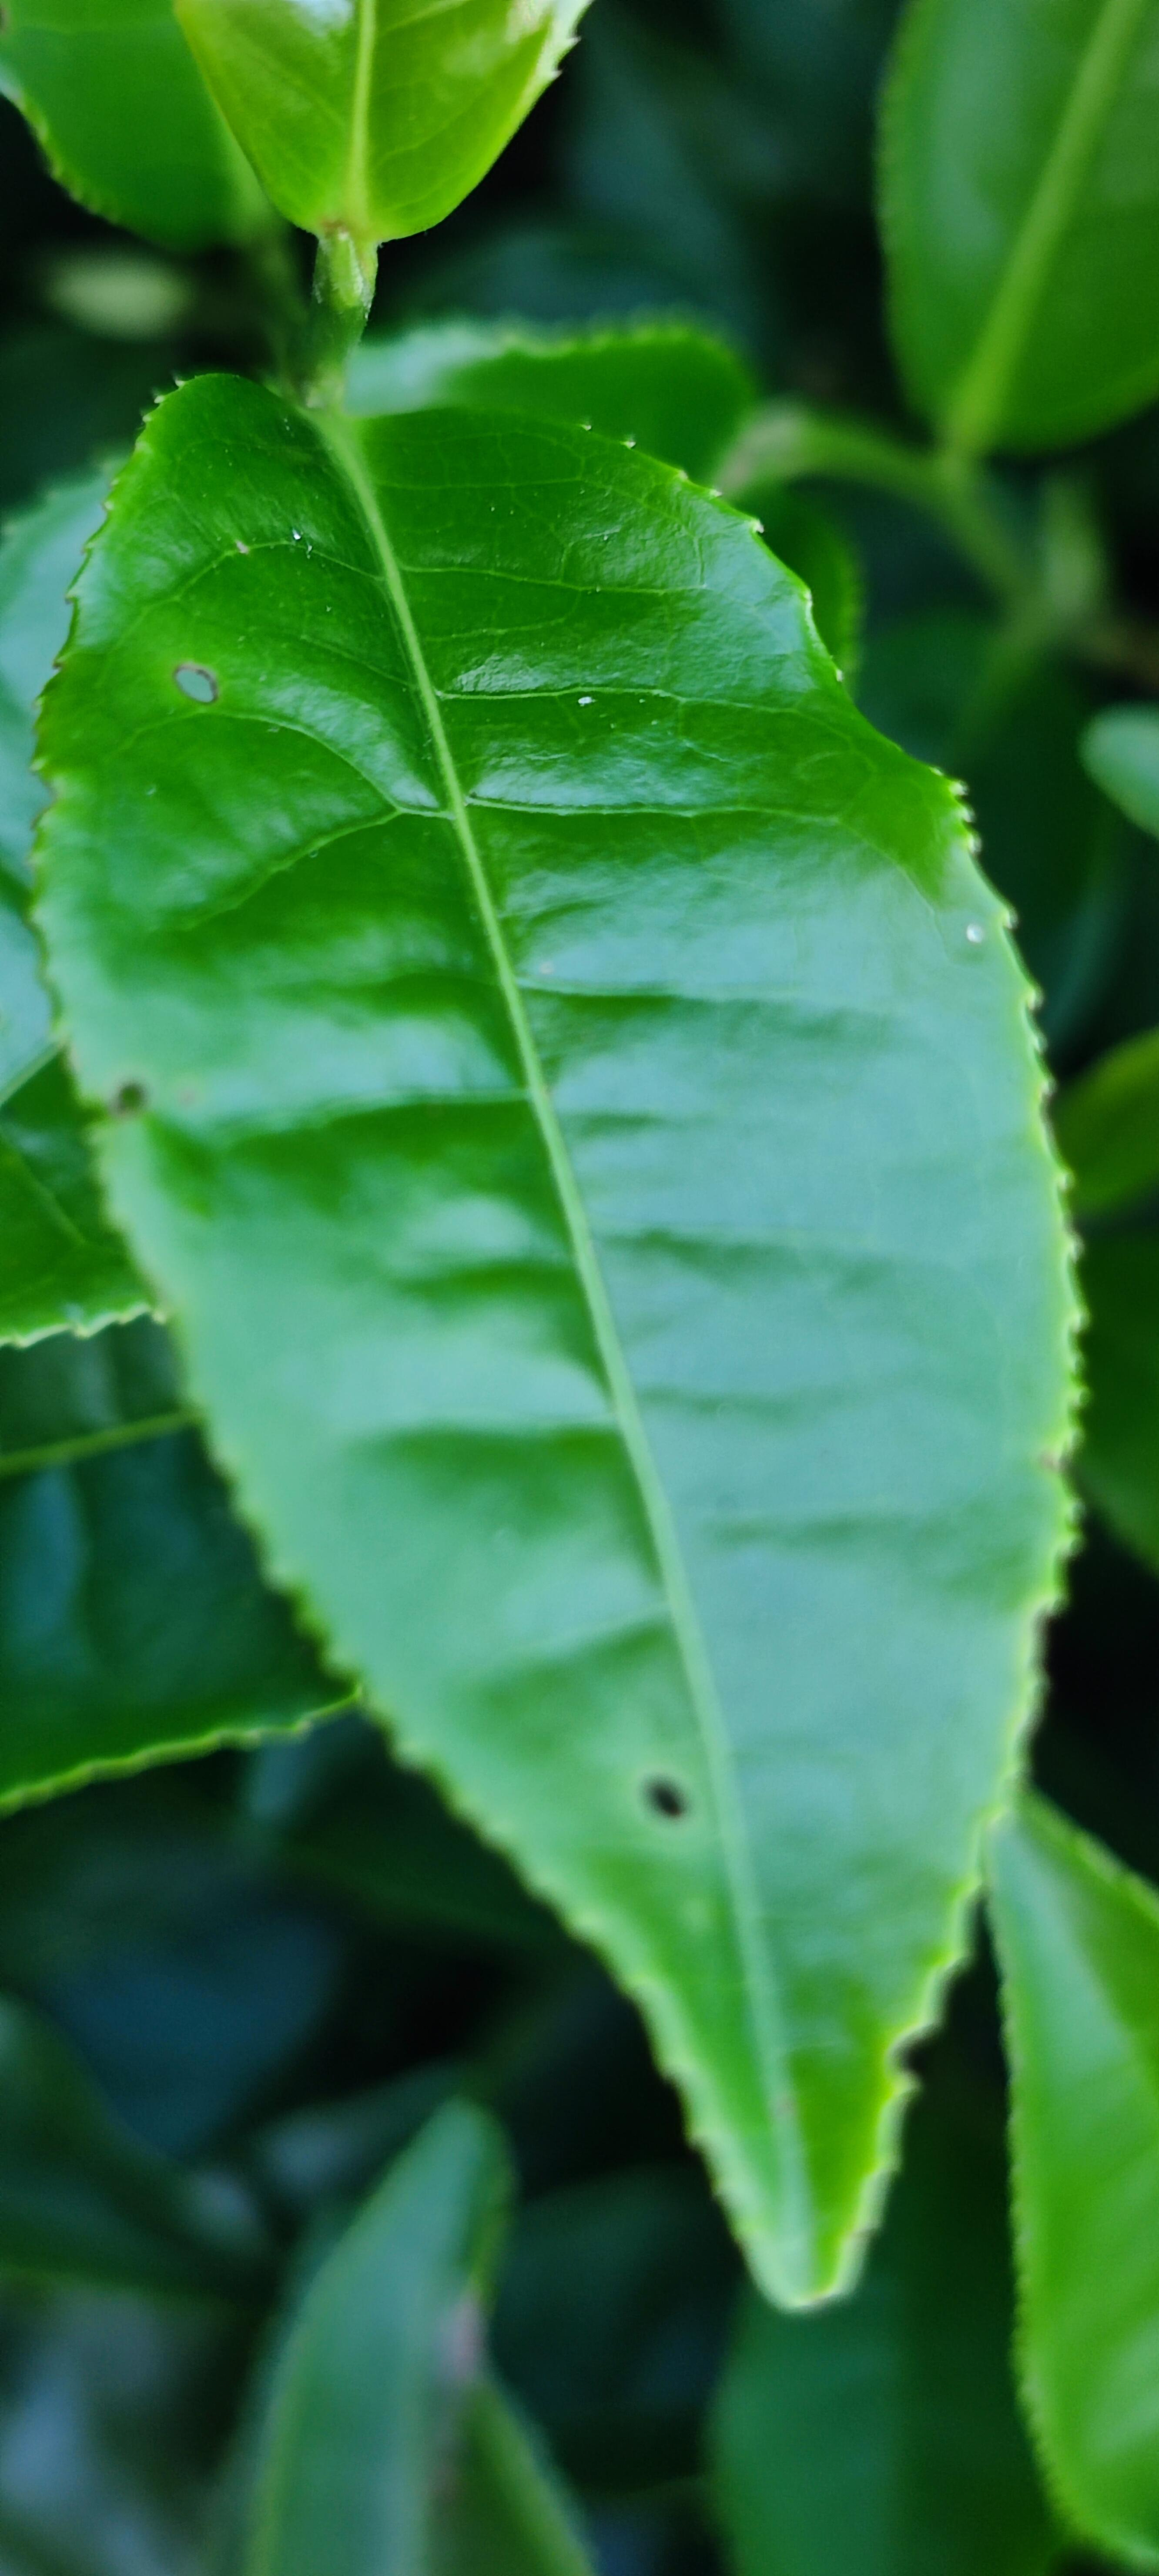chihuo_high: (28, 376, 1105, 2321)
